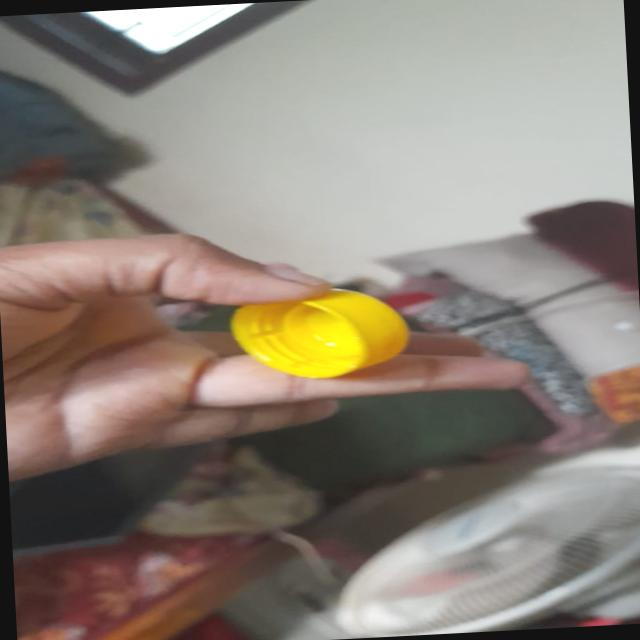Plastic - Recyclable: (213, 274, 429, 394)
